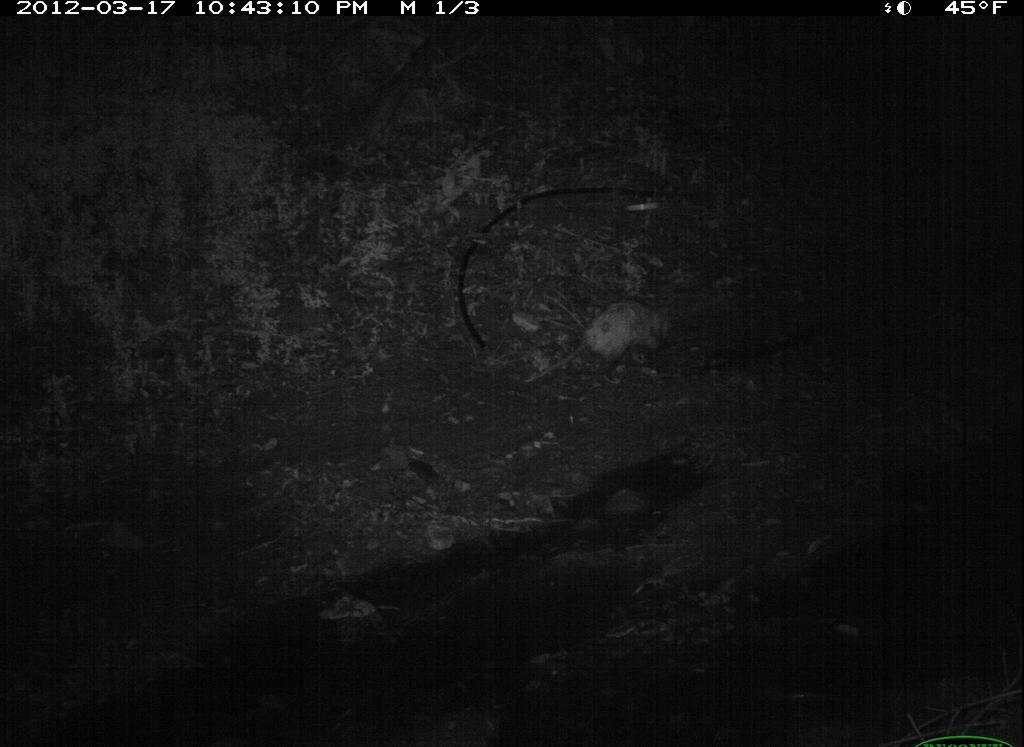opossum: (513, 291, 737, 408)
